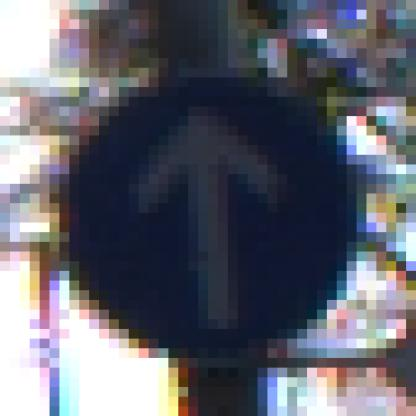AheadOnly: (51, 59, 368, 369)
